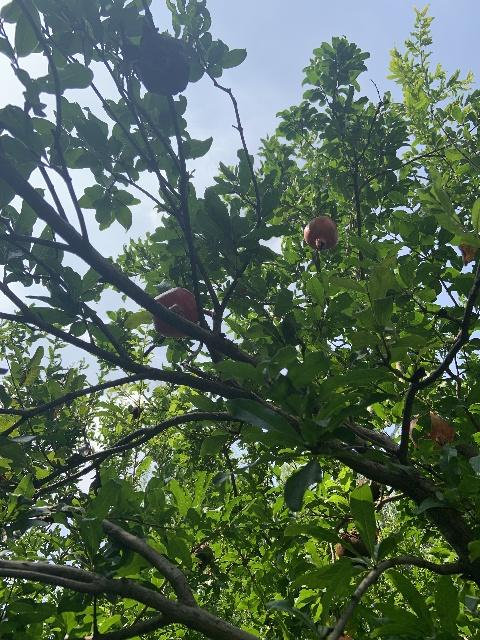ripe: (151, 287, 198, 338), (409, 412, 454, 450), (303, 215, 337, 251)
